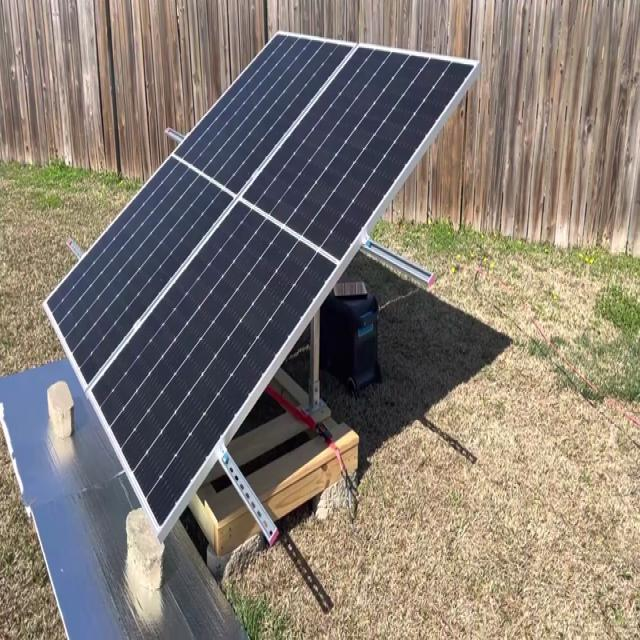Normal Solar Panel: (45, 31, 480, 531)
